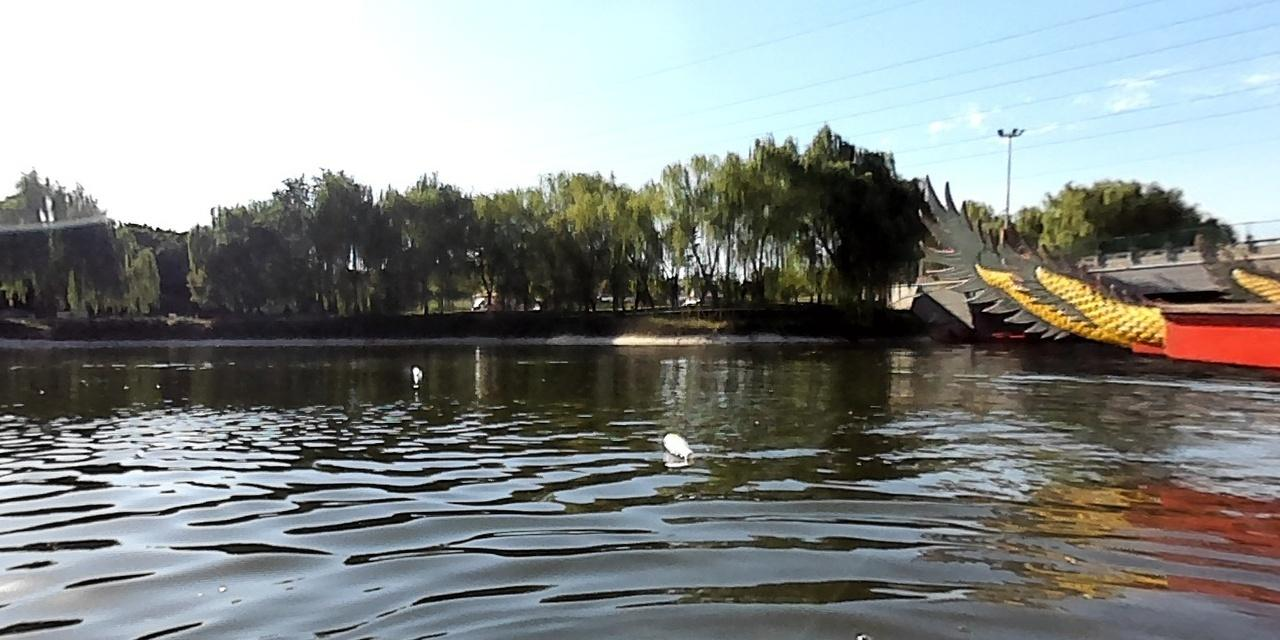bottle: (659, 430, 693, 460), (411, 367, 423, 387)
